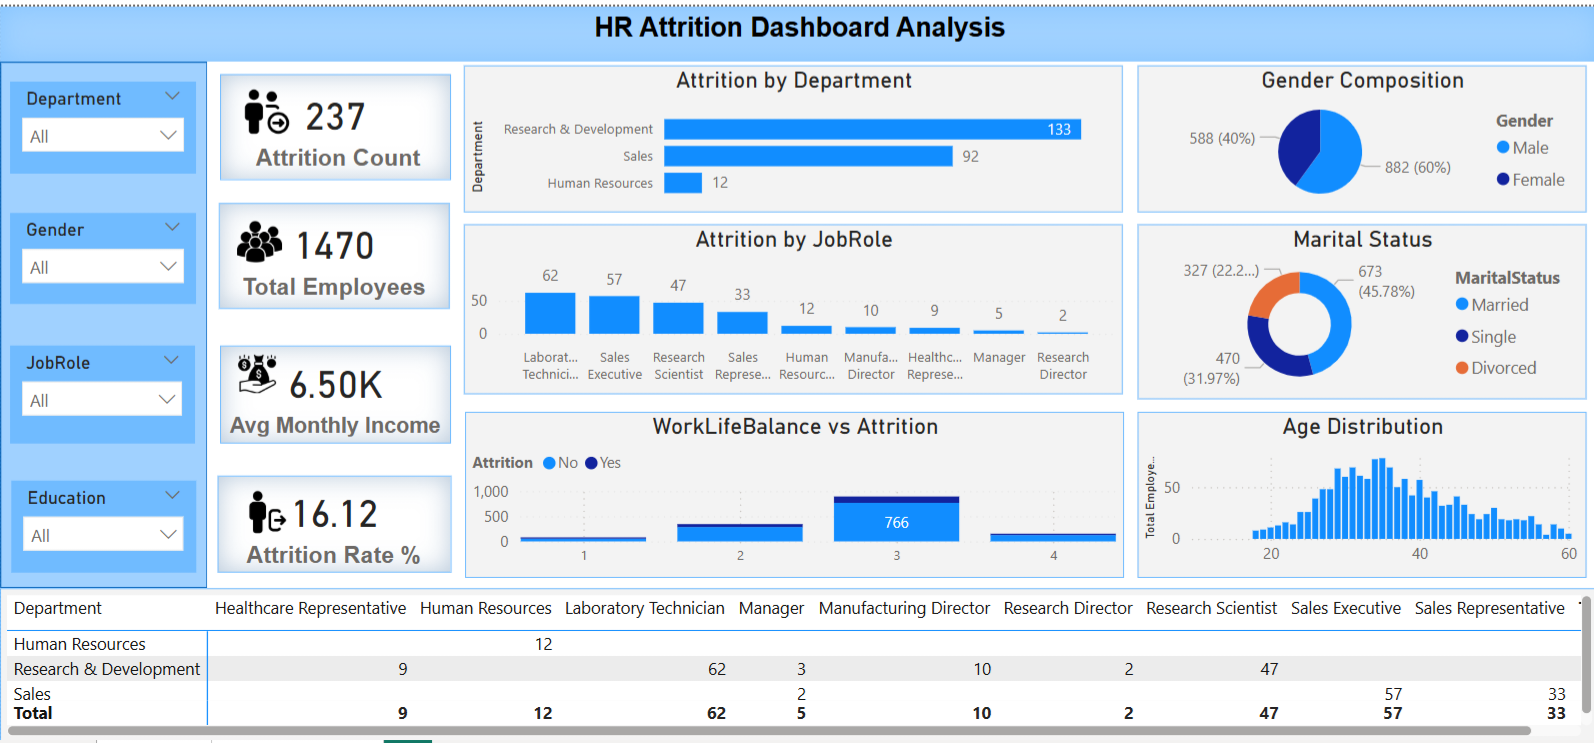

This screenshot's page, from the dashboard's own definition file:
{"tool":"powerbi","page":{"name":"Overview","canvas":[1280,720],"ordinal":0},"visuals":[{"type":"shape","box":[0,44,166,421],"z":0},{"type":"card","fields":{"Values":["Count(main.EmployeeNumber)"]},"box":[175,157,185,85],"z":1000},{"type":"card","fields":{"Values":["Avg(main.MonthlyIncome)"]},"box":[176,271,185,79],"z":2000},{"type":"card","fields":{"Values":["CountNonNull(main.Attrition)"]},"box":[176,54,185,85],"z":3000},{"type":"actionButton","box":[0,0,100,40],"z":4000},{"type":"slicer","fields":{"Values":["main.JobRole"]},"box":[8,271,148,79],"z":5000},{"type":"slicer","fields":{"Values":["main.Gender"]},"box":[8,165,149,73],"z":6000},{"type":"slicer","fields":{"Values":["main.Education"]},"box":[9,379,148,74],"z":7000},{"type":"slicer","fields":{"Values":["main.Department"]},"box":[8,60,149,74],"z":8000},{"type":"clusteredBarChart","title":"Attrition by Department","fields":{"Category":["main.Department"],"Y":["CountNonNull(main.Attrition)"]},"box":[371,47,527,118],"z":9000},{"type":"columnChart","title":"Attrition by JobRole","fields":{"Y":["CountNonNull(main.Attrition)"],"Category":["main.JobRole"]},"box":[371,174,527,136],"z":10000},{"type":"columnChart","title":" WorkLifeBalance vs Attrition","fields":{"Category":["main.WorkLifeBalance"],"Y":["CountNonNull(main.EmployeeNumber)"],"Series":["main.Attrition"]},"box":[372,324,527,133],"z":11000},{"type":"pieChart","title":"Gender Composition","fields":{"Category":["main.Gender"],"Y":["CountNonNull(main.EmployeeNumber)"]},"box":[910,47,359,118],"z":12000},{"type":"donutChart","title":"Marital Status","fields":{"Y":["CountNonNull(main.EmployeeNumber)"],"Category":["main.MaritalStatus"]},"box":[910,174,359,140],"z":13000},{"type":"columnChart","title":"Age Distribution","fields":{"Category":["main.Age"],"Y":["CountNonNull(main.EmployeeNumber)"]},"box":[910,324,359,133],"z":14000},{"type":"pivotTable","title":"Attrition By Department and Job Role","fields":{"Rows":["main.Department"],"Columns":["main.JobRole"],"Values":["CountNonNull(main.EmployeeNumber)"]},"box":[0,465,1280,125],"z":15000},{"type":"textbox","box":[0,0,1280.2,44.1],"z":16000},{"type":"card","fields":{"Values":["main.Attrition Rate","select"]},"box":[174,375,187,78],"z":17000},{"type":"image","box":[184,170,47,36],"z":18000},{"type":"image","box":[197,379,34,51],"z":19000},{"type":"image","box":[194,66,39,36],"z":20000},{"type":"image","box":[184,277,44,32],"z":21000}]}

Visuals, with their boxes on the page's 1280x720 design canvas (x1, y1, x2, y2). These are canvas units, not pixel positions in the 1594x743 screenshot, which may show the page scaled, cropped or inside an application window:
shape: bbox=[0, 44, 166, 465]
card - Count(main.EmployeeNumber): bbox=[175, 157, 360, 242]
card - Avg(main.MonthlyIncome): bbox=[176, 271, 361, 350]
card - CountNonNull(main.Attrition): bbox=[176, 54, 361, 139]
actionButton: bbox=[0, 0, 100, 40]
slicer - main.JobRole: bbox=[8, 271, 156, 350]
slicer - main.Gender: bbox=[8, 165, 157, 238]
slicer - main.Education: bbox=[9, 379, 157, 453]
slicer - main.Department: bbox=[8, 60, 157, 134]
"Attrition by Department" clusteredBarChart: bbox=[371, 47, 898, 165]
"Attrition by JobRole" columnChart: bbox=[371, 174, 898, 310]
" WorkLifeBalance vs Attrition" columnChart: bbox=[372, 324, 899, 457]
"Gender Composition" pieChart: bbox=[910, 47, 1269, 165]
"Marital Status" donutChart: bbox=[910, 174, 1269, 314]
"Age Distribution" columnChart: bbox=[910, 324, 1269, 457]
"Attrition By Department and Job Role" pivotTable: bbox=[0, 465, 1280, 590]
textbox: bbox=[0, 0, 1280, 44]
card - main.Attrition Rate x select: bbox=[174, 375, 361, 453]
image: bbox=[184, 170, 231, 206]
image: bbox=[197, 379, 231, 430]
image: bbox=[194, 66, 233, 102]
image: bbox=[184, 277, 228, 309]
